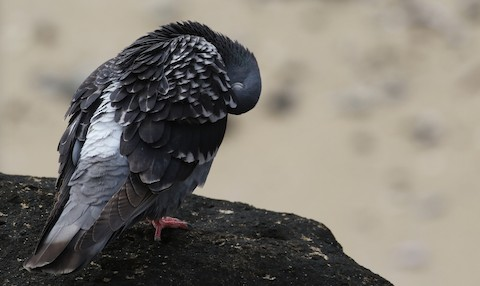pigeon: (20, 17, 265, 282)
